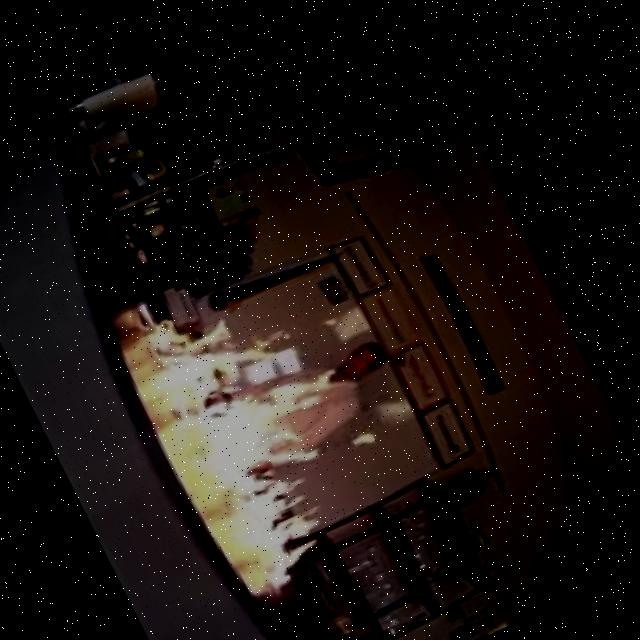Fire: (134, 247, 423, 604)
